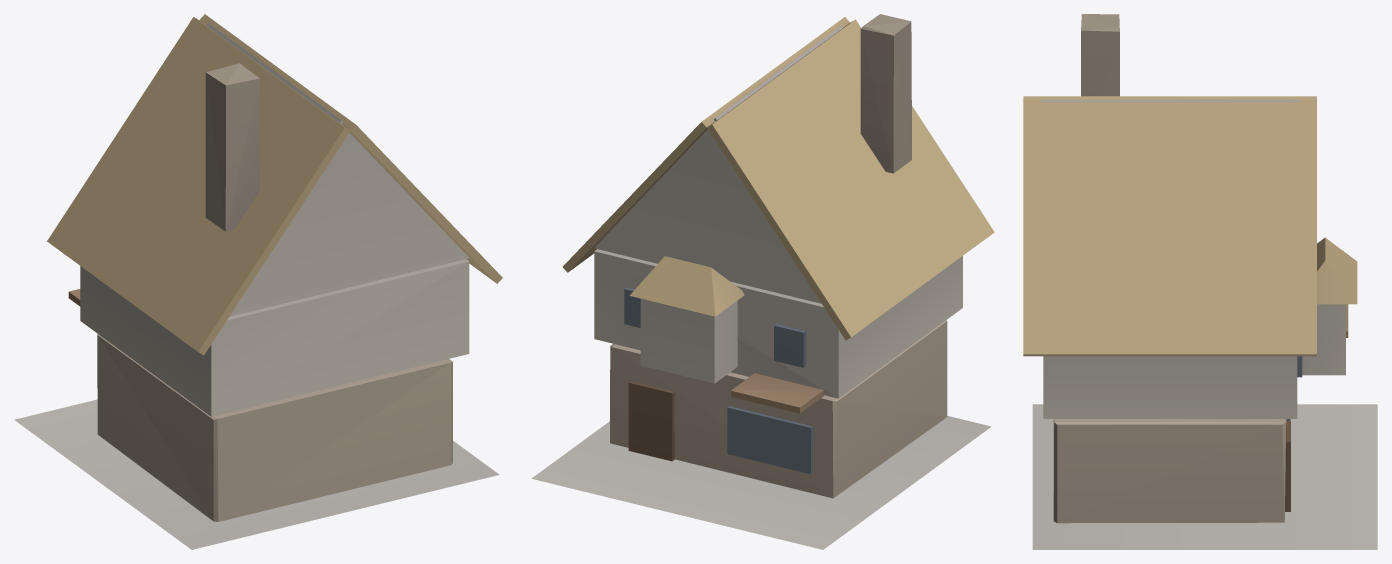
File: house_merchants.v2.lite.glb
3 views of the same model, side by side, from view 1: azimuth 30°, elevation 25°; view 2: azimuth 150°, elevation 25°; view 3: azimuth 270°, elevation 25° (orthographic). The views are drawn at different scales.
Visible parts, largest first — view 1: house_merchants; view 2: house_merchants; view 3: house_merchants.
Boxes of the visible parts, x1,y1,x2,y2 form: house_merchants: (14, 14, 502, 549); house_merchants: (531, 14, 994, 549); house_merchants: (1023, 14, 1377, 549).
Size of the model in its own units: 2.96 by 3.97 by 3.04.
